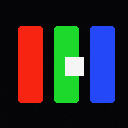1 square: (65, 57, 83, 75)
